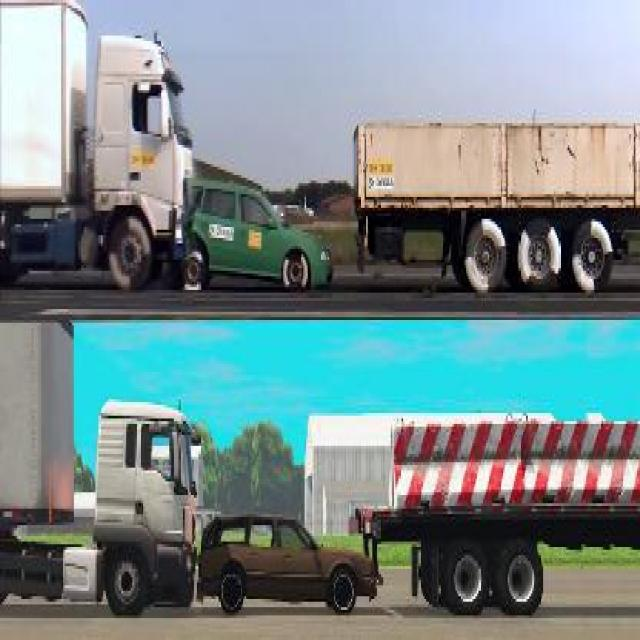accident: (0, 0, 342, 290)
